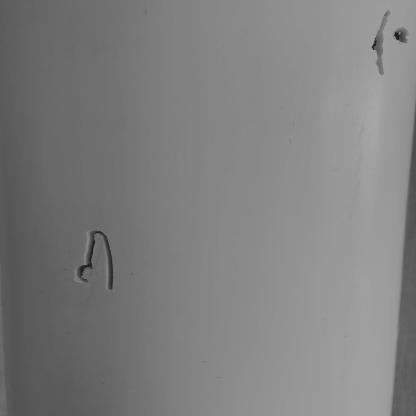fengxi: (67, 224, 119, 291)
kongdong: (374, 3, 386, 80), (392, 25, 411, 49)
